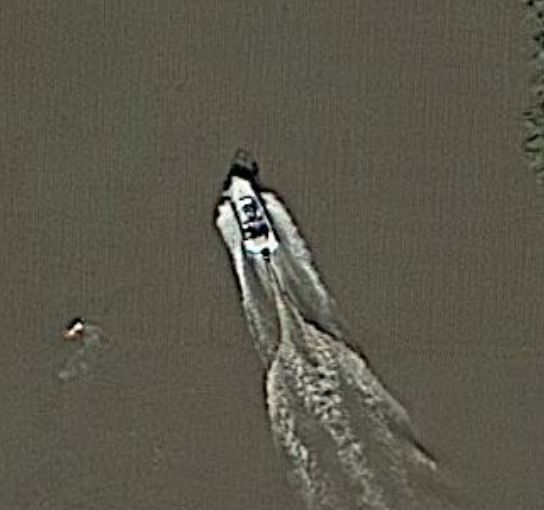boat: (222, 172, 282, 267)
